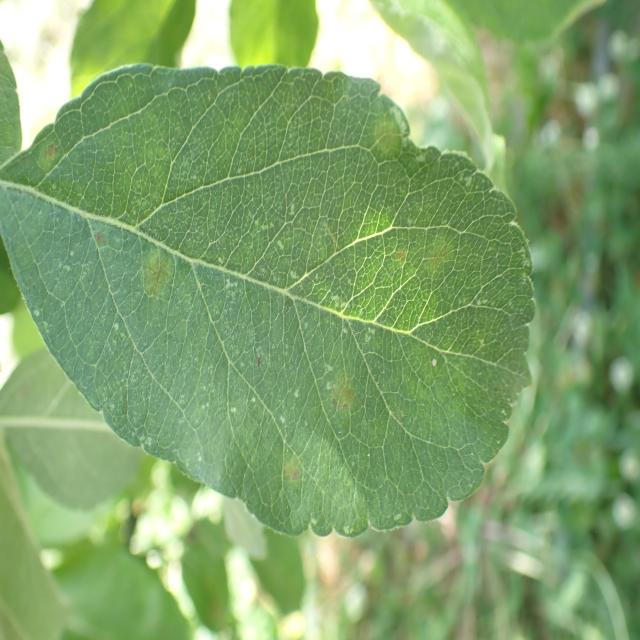scab: (11, 103, 564, 492)
